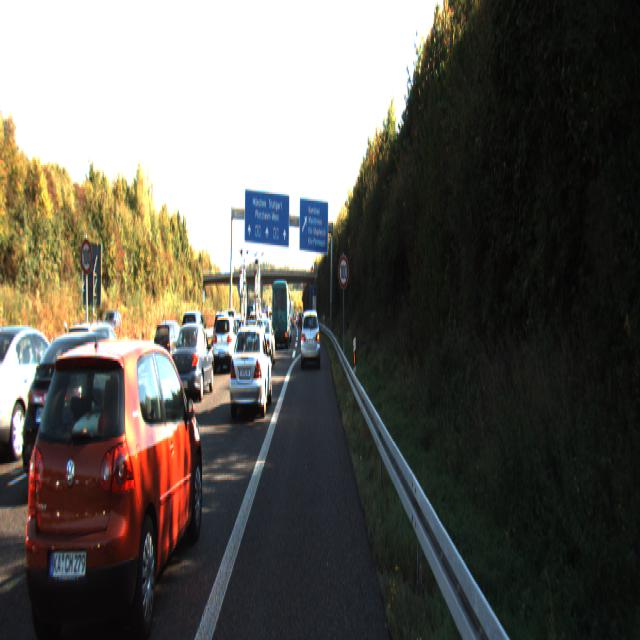Car: (14, 325, 206, 638), (18, 320, 140, 495), (0, 317, 77, 468), (62, 318, 134, 417), (227, 320, 273, 420), (168, 319, 215, 404), (152, 319, 187, 375), (209, 310, 239, 369), (252, 314, 276, 367), (272, 276, 290, 346), (300, 307, 320, 367)
